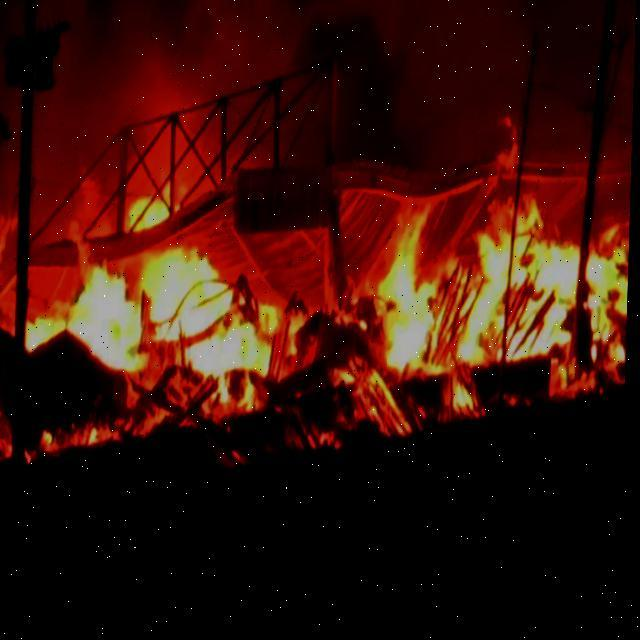Fire: (368, 192, 632, 445), (17, 232, 311, 422), (128, 193, 172, 239)
